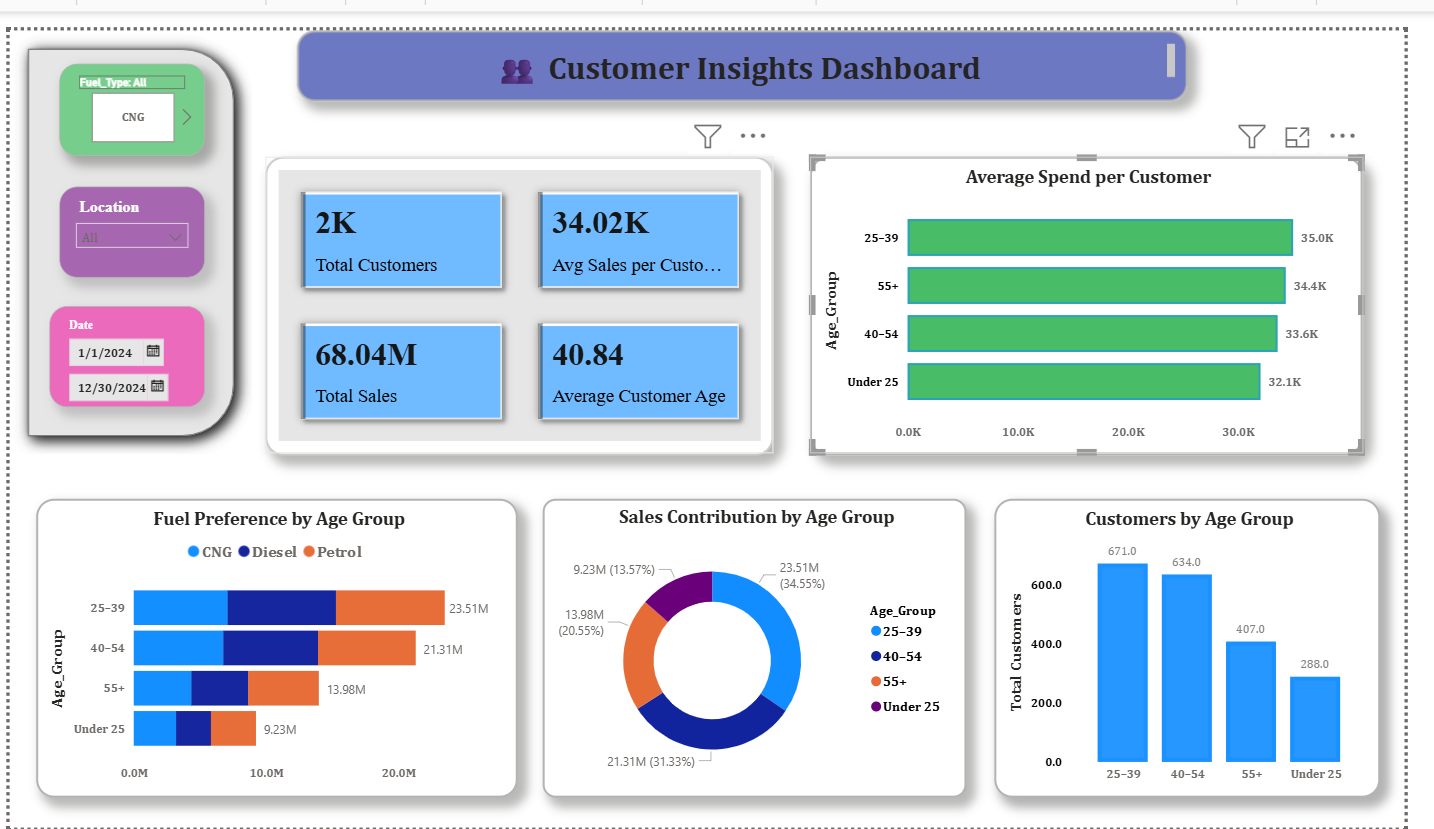

The dashboard page shown, as its layout file describes it:
{"tool":"powerbi","page":{"name":"Customer Insights","canvas":[1400,800],"ordinal":0},"visuals":[{"type":"shape","box":[0,0,243.5,425.6],"z":0},{"type":"cardVisual","fields":{"Data":["Bharat_Petrol.Total Customers","Bharat_Petrol.Total Sales","Bharat_Petrol.Avg Sales per Customer","Bharat_Petrol.Average Customer Age"]},"box":[256.7,125.9,510.1,299.8],"z":1000},{"type":"columnChart","title":"Customers by Age Group","fields":{"Category":["Bharat_Petrol.Age_Group"],"Y":["Bharat_Petrol.Total Customers"]},"box":[988.7,470.3,387.5,299.8],"z":2000},{"type":"donutChart","title":"Sales Contribution by Age Group","fields":{"Category":["Bharat_Petrol.Age_Group"],"Y":["Bharat_Petrol.Total Sales"]},"box":[534.9,470.3,425.6,299.8],"z":3000},{"type":"barChart","title":"Fuel Preference by Age Group","fields":{"Category":["Bharat_Petrol.Age_Group"],"Y":["Bharat_Petrol.Total Sales"],"Series":["Bharat_Petrol.Fuel_Type"]},"box":[26.5,470.3,483.6,299.8],"z":4000},{"type":"clusteredBarChart","title":"Average Spend per Customer","fields":{"Category":["Bharat_Petrol.Age_Group"],"Y":["Bharat_Petrol.Avg Sales per Customer"]},"box":[803.2,125.9,554.8,299.8],"z":5000},{"type":"textbox","box":[288.2,0,894.3,71.2],"z":6000},{"type":"slicer","fields":{"Values":["Bharat_Petrol.Fuel_Type"]},"box":[49.7,33.1,145.7,92.7],"z":7000},{"type":"slicer","fields":{"Values":["Bharat_Petrol.Date"]},"box":[39.7,276.6,155.7,101],"z":8000},{"type":"slicer","fields":{"Values":["Bharat_Petrol.Location"]},"box":[49.7,157.3,145.7,91.1],"z":9000}]}

Visuals, with their boxes in screenshot pixels (x1, y1, x2, y2), scaled from the page's 1400x800 canvas onto the 1434x829 screenshot:
shape: region(0, 0, 249, 441)
cardVisual - Bharat_Petrol.Total Customers x Bharat_Petrol.Total Sales: region(263, 130, 785, 441)
"Customers by Age Group" columnChart: region(1013, 487, 1410, 798)
"Sales Contribution by Age Group" donutChart: region(548, 487, 984, 798)
"Fuel Preference by Age Group" barChart: region(27, 487, 522, 798)
"Average Spend per Customer" clusteredBarChart: region(823, 130, 1391, 441)
textbox: region(295, 0, 1211, 74)
slicer - Bharat_Petrol.Fuel_Type: region(51, 34, 200, 130)
slicer - Bharat_Petrol.Date: region(41, 287, 200, 391)
slicer - Bharat_Petrol.Location: region(51, 163, 200, 257)
